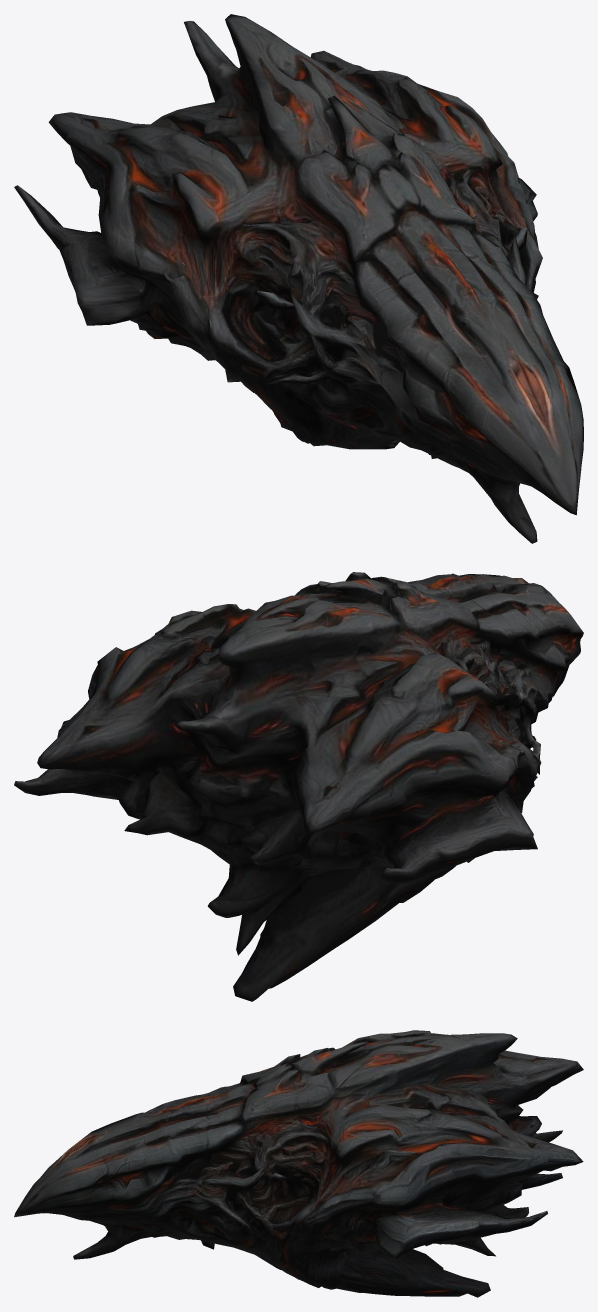
File: void-sentinel.glb
3 renders of one model, top to bottom at view 1: azimuth 30°, elevation 25°; view 2: azimuth 150°, elevation 25°; view 3: azimuth 270°, elevation 25°, orthographic. The views are drawn at different scales.
Bounding box in the file's own units: 1.3 × 0.9763 × 1.94.
1 material, 1 textured.
